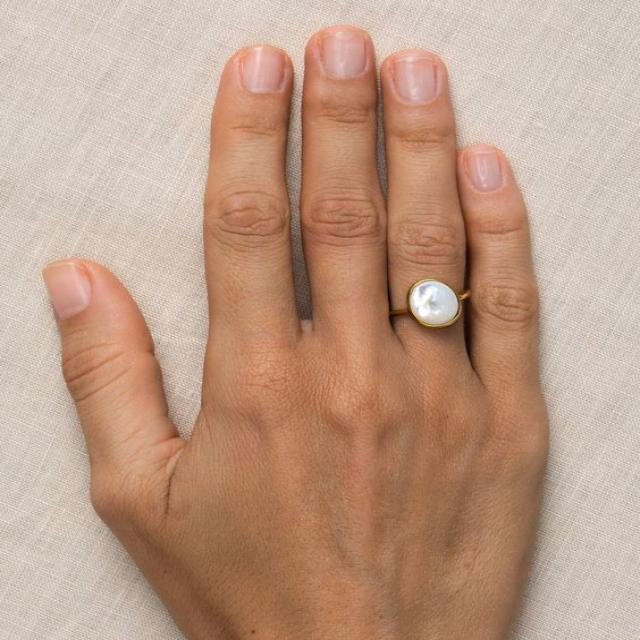Fingernail: (44, 264, 91, 319), (322, 32, 366, 80), (394, 57, 437, 104), (241, 49, 284, 95), (465, 152, 503, 193)
